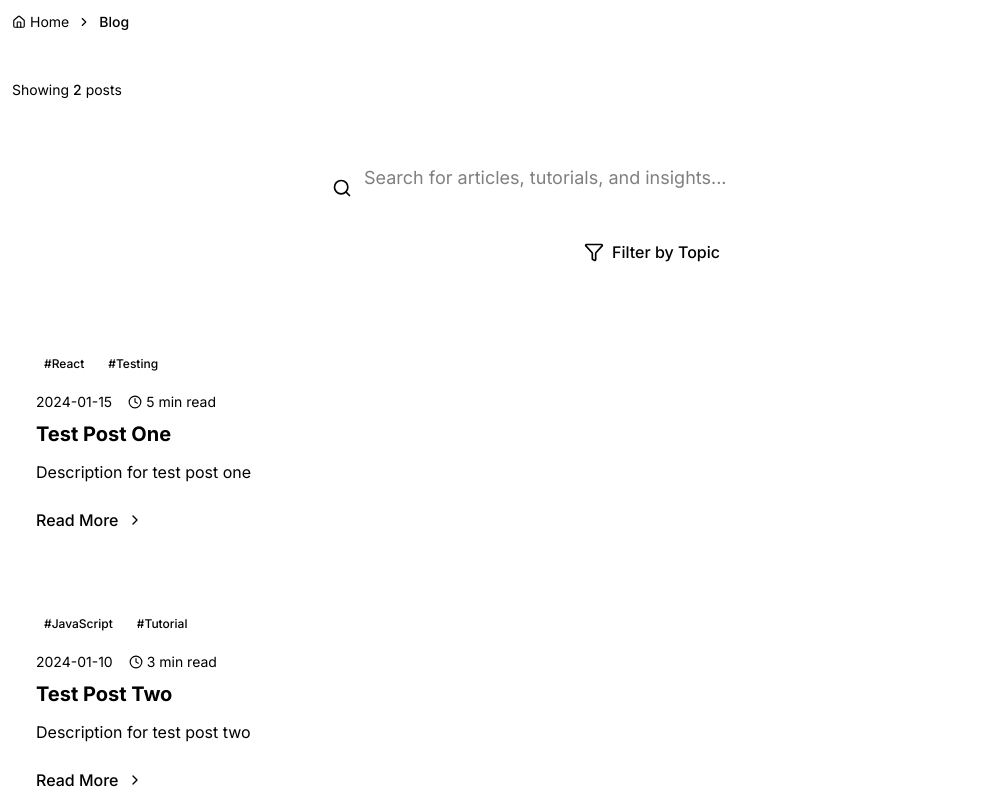
Scenario: BlogList Component › shows no results message when no posts match
Type "nonexistent post xyz" into the field with placeholder "Search for articles, tutorials, and insights..." at (652, 178), box [316, 148, 988, 208]
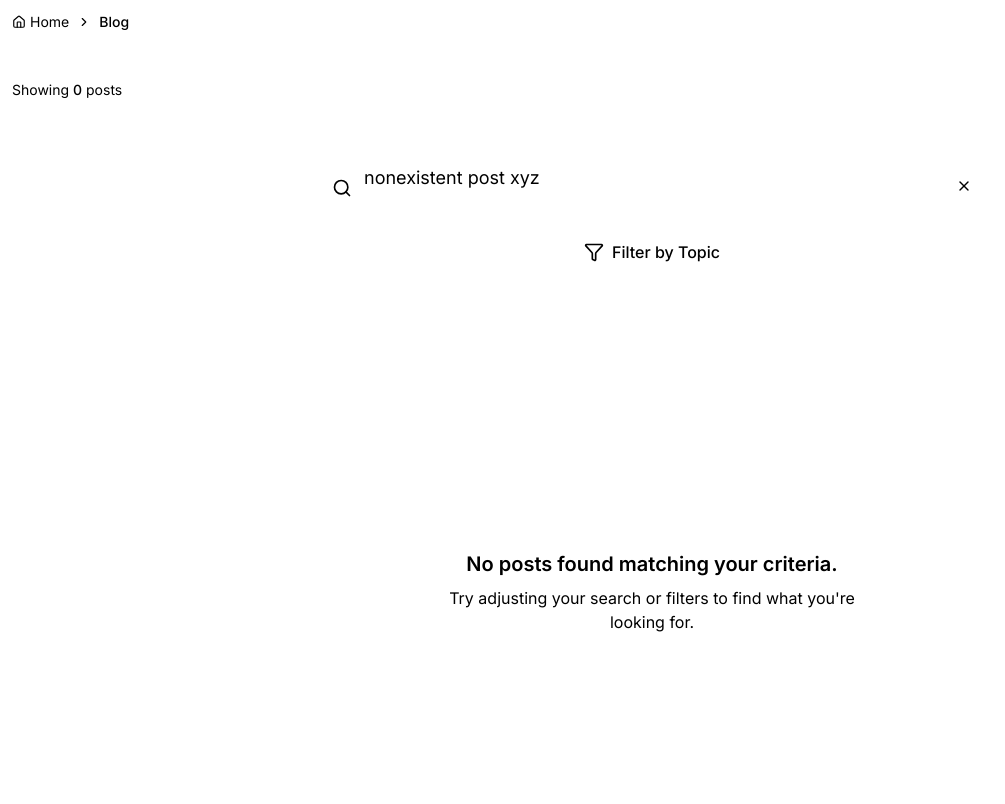
Expected: the heading "No posts found matching your criteria." is shown, [466, 550, 838, 578]
